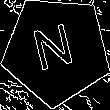N_S: (31, 21, 81, 80)
